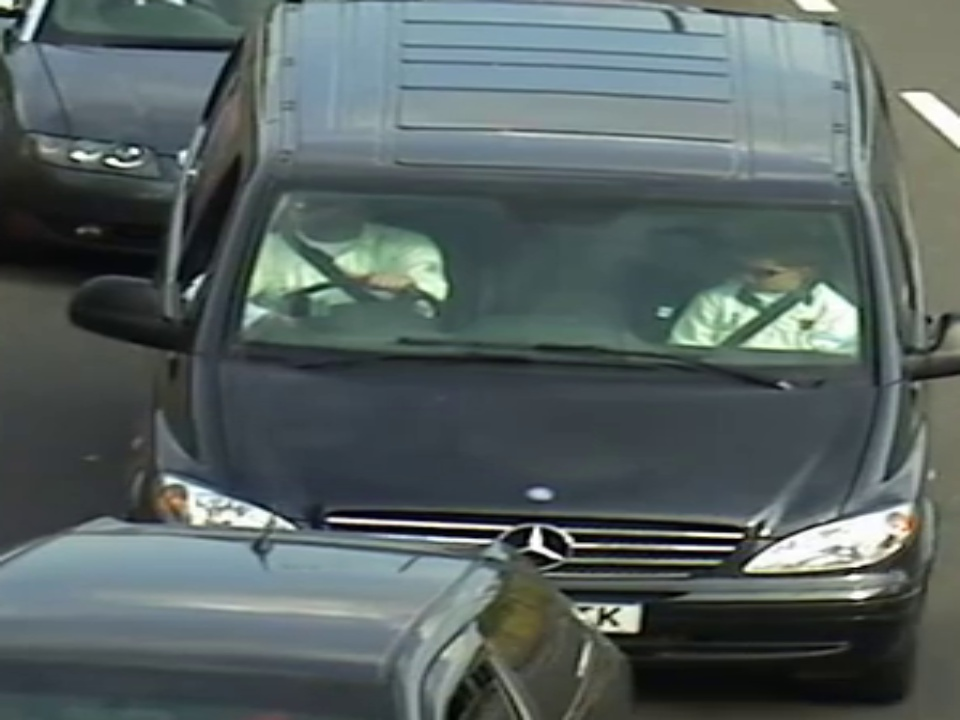TWO: (242, 178, 871, 357)
